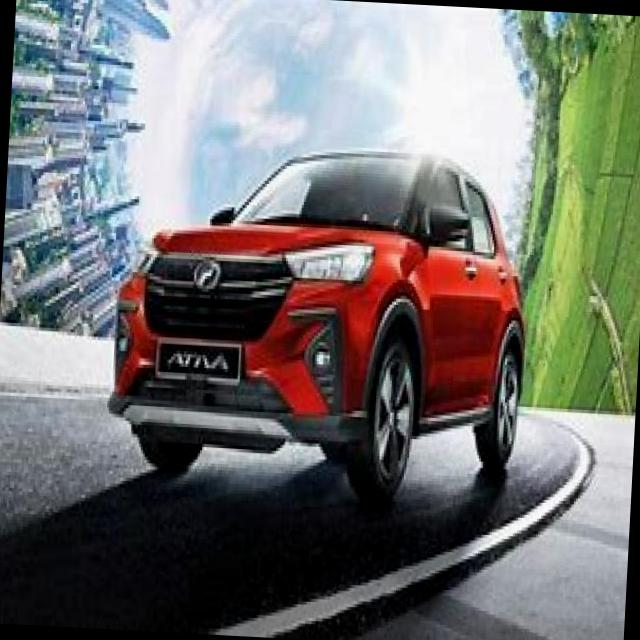PeroduaAtiva: (101, 132, 537, 511)
